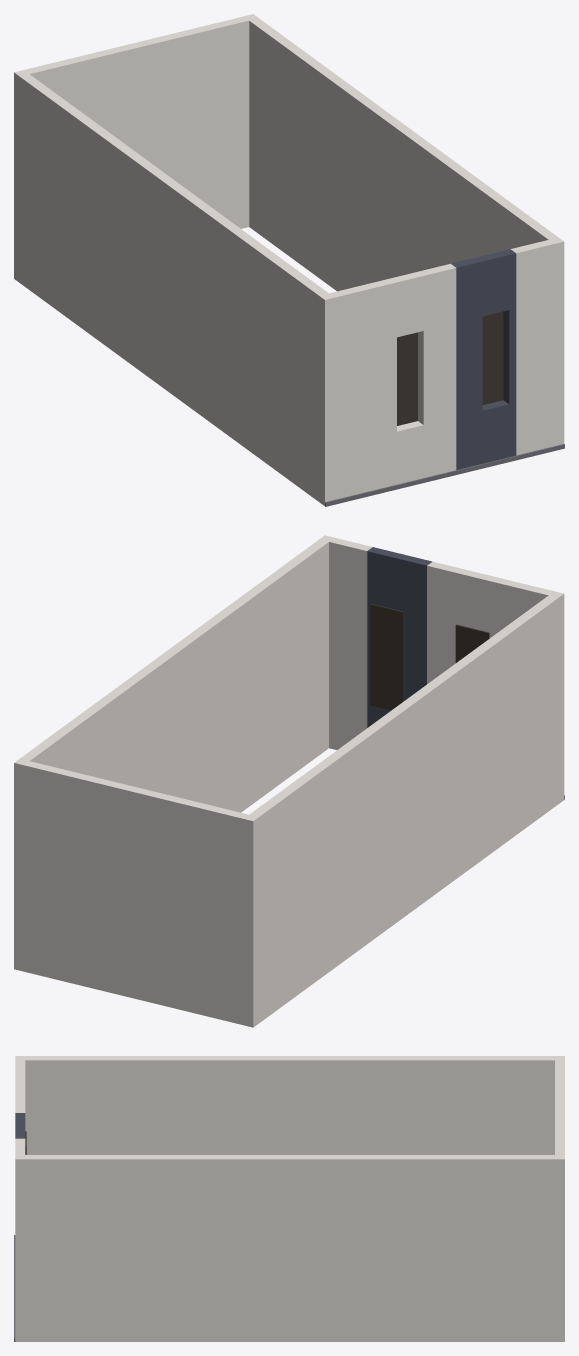
File: SM_Floor_NarrowUpperScatterLow_White_364_01.gltf
The picture shows the model from 3 angles, top to bottom: view 1: azimuth 30°, elevation 25°; view 2: azimuth 150°, elevation 25°; view 3: azimuth 270°, elevation 25°; orthographic projection. The views are drawn at different scales.
Visible parts, largest first — view 1: SM_Floor_NarrowUpperScatterLow_White_364_01; view 2: SM_Floor_NarrowUpperScatterLow_White_364_01; view 3: SM_Floor_NarrowUpperScatterLow_White_364_01.
Part boxes in pixels (x1,y1,x2,y2): SM_Floor_NarrowUpperScatterLow_White_364_01: (14, 14, 564, 506); SM_Floor_NarrowUpperScatterLow_White_364_01: (14, 535, 564, 1027); SM_Floor_NarrowUpperScatterLow_White_364_01: (14, 1056, 564, 1341).
Bounding box in the file's own units: 3.64 × 3 × 8.21.
Materials: 1 (1 with a texture image).
